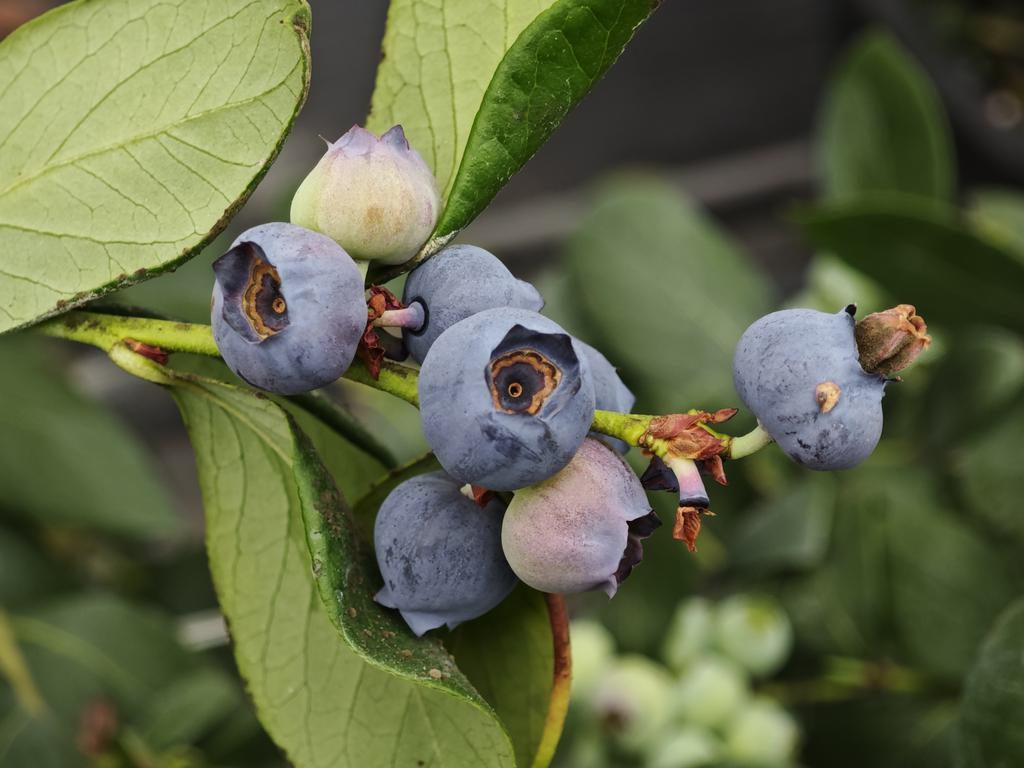RipeBlueBerry: (415, 303, 601, 492), (730, 299, 922, 474), (204, 219, 373, 396), (372, 475, 510, 637)
Semi-RipeBlueBerry: (501, 439, 659, 600)
UnripeBlueBerry: (289, 122, 442, 260)
